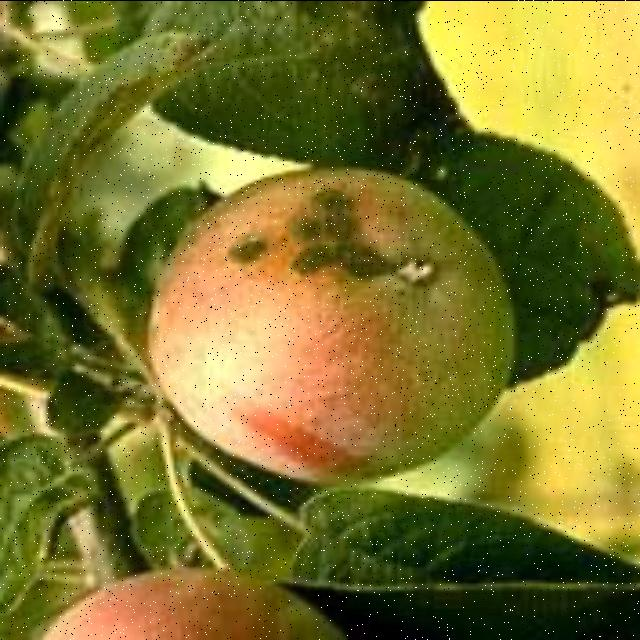SCAB: (114, 130, 514, 472)
